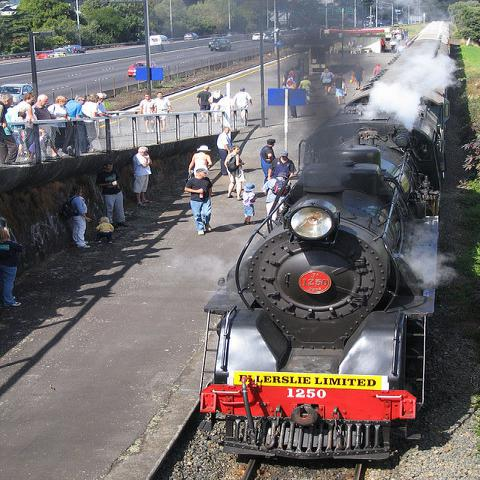car: (128, 61, 158, 77), (149, 34, 174, 46), (211, 39, 231, 51), (264, 32, 283, 43), (208, 36, 224, 48), (49, 49, 67, 58), (184, 32, 200, 41), (38, 50, 54, 59), (71, 45, 86, 53), (252, 34, 262, 41), (279, 28, 288, 32), (66, 53, 74, 55)
